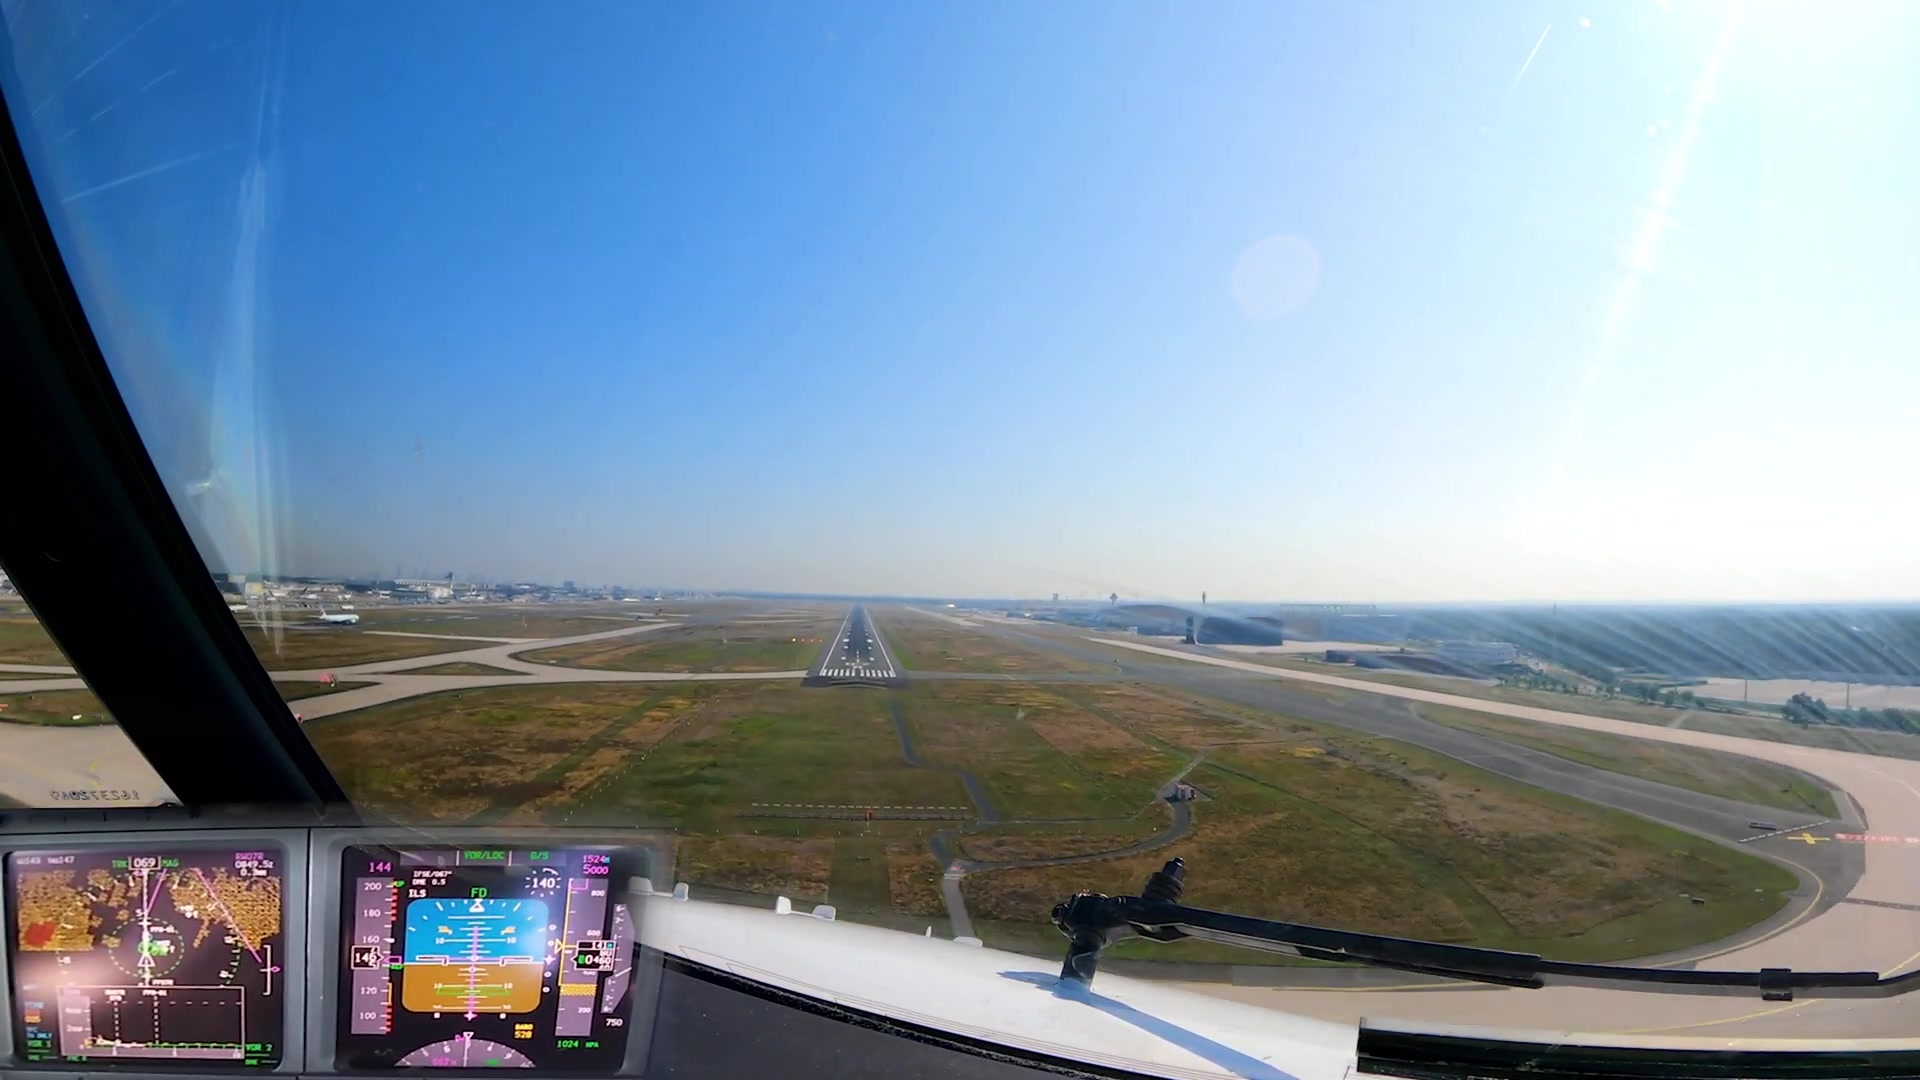entrance: (816, 667, 894, 678)
runway: (814, 607, 901, 682)
